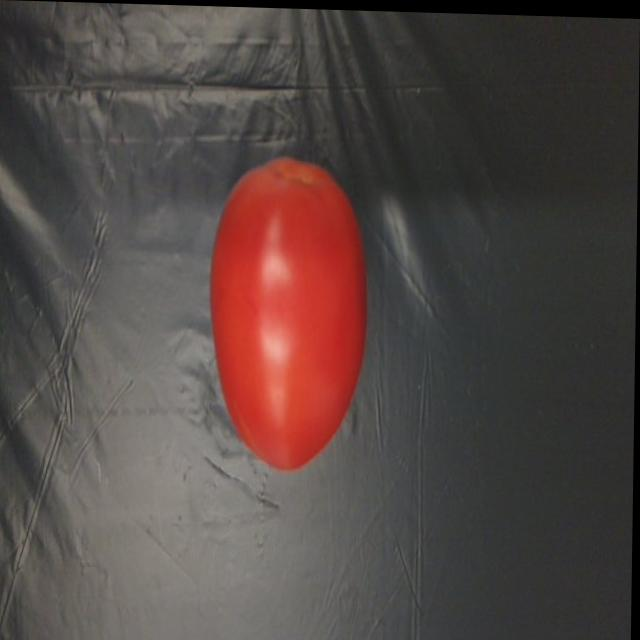kirmizi: (209, 155, 364, 473)
